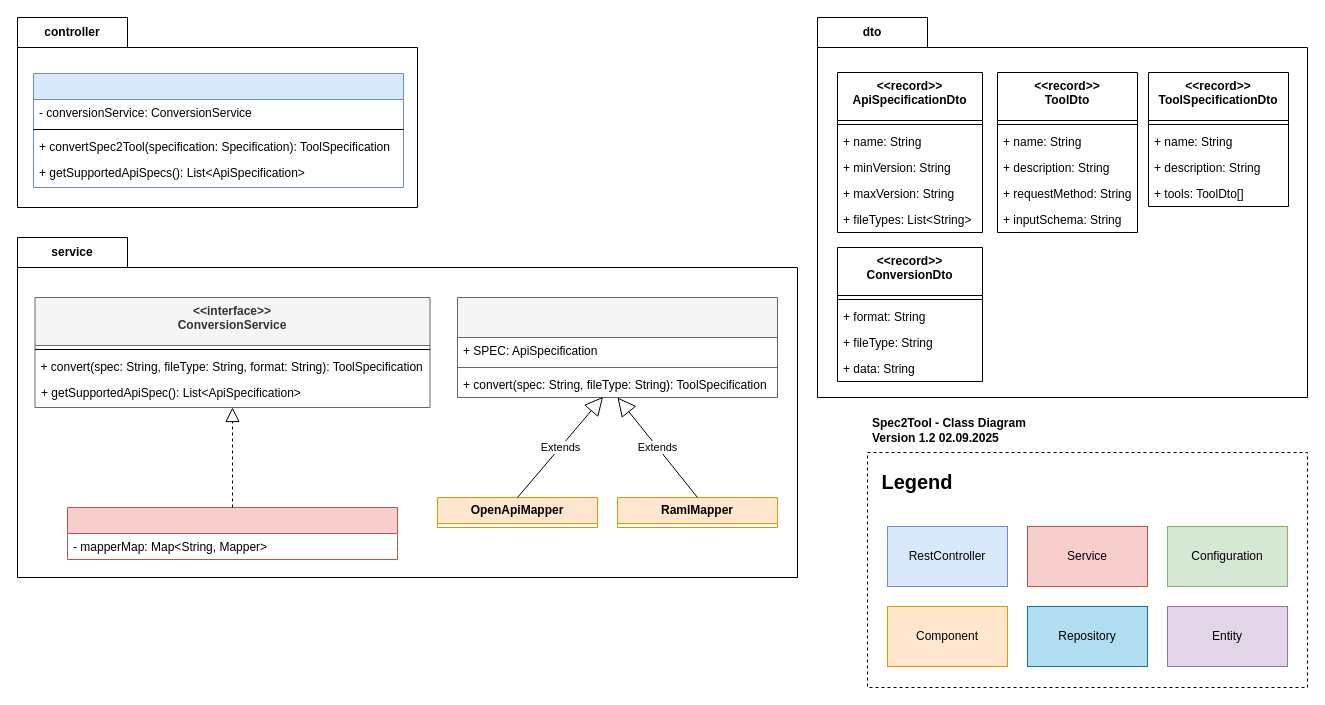
Some shapes in this 1325 by 705 pixel diagram are drawn without their labels. Each missing label, with the box of its shape:
<<abstract>> Mapper: (456, 296, 778, 398)
ConversionController: (32, 72, 404, 188)
ConversionServiceImpl: (66, 506, 398, 560)
